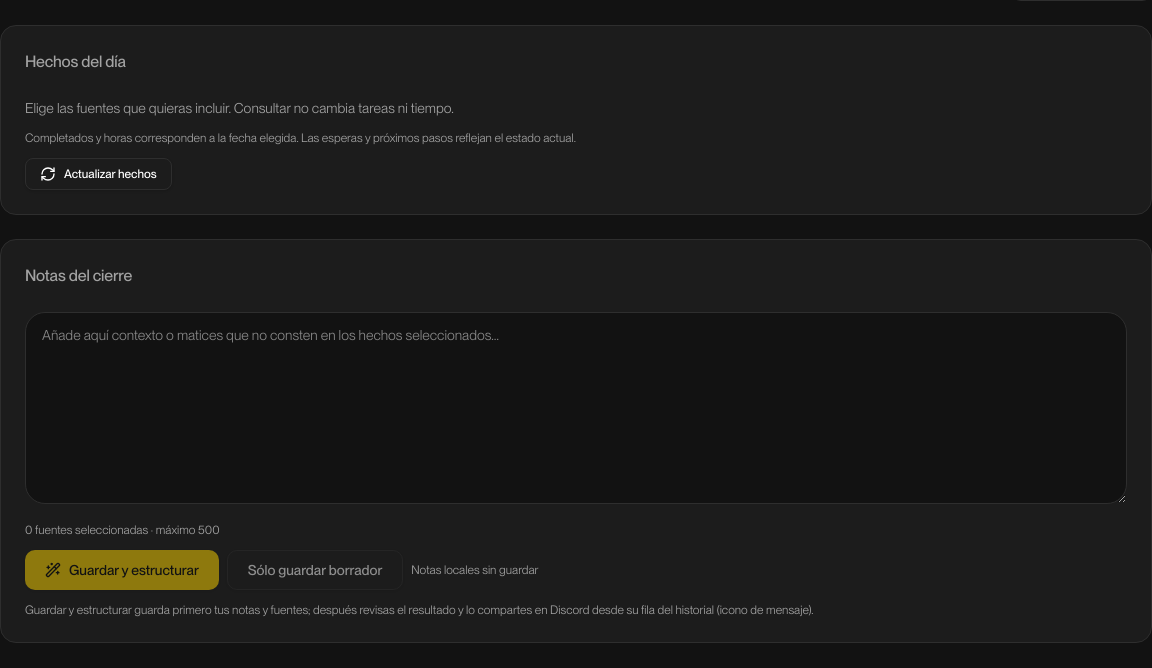
Scenario: offers AI on a new closing and saves the selected facts before structuring
The width and height of the screenshot is (1152, 668).
Replace the text in the text box named "Notas del daily" with "Nota humana": [576, 408] box [25,312,1127,504]
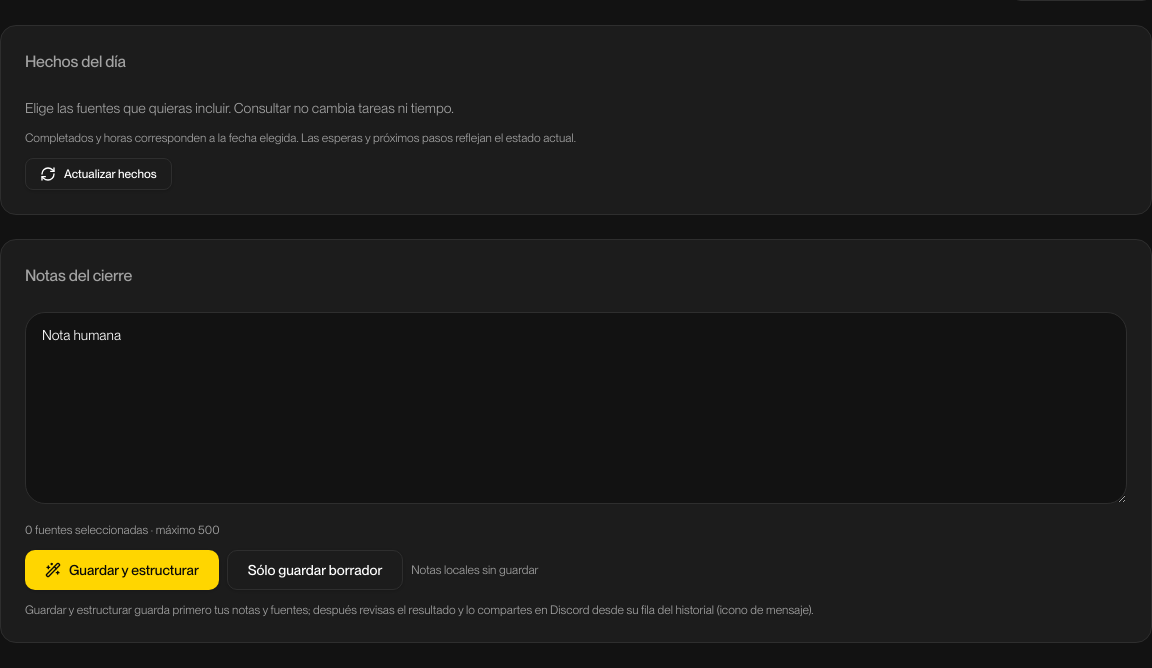
Click the button "Actualizar hechos": [98, 174] box [25,158,172,190]
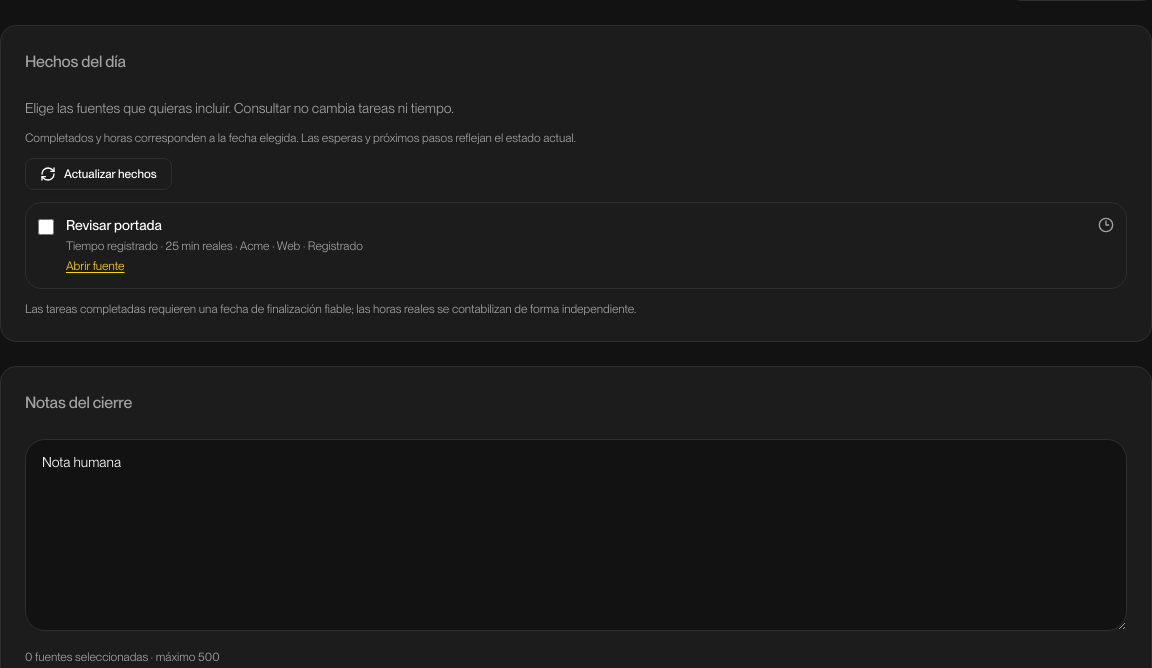
Click the checkbox labelled "Revisar portada": [46, 227] box [38,219,54,235]
(page scrolled)
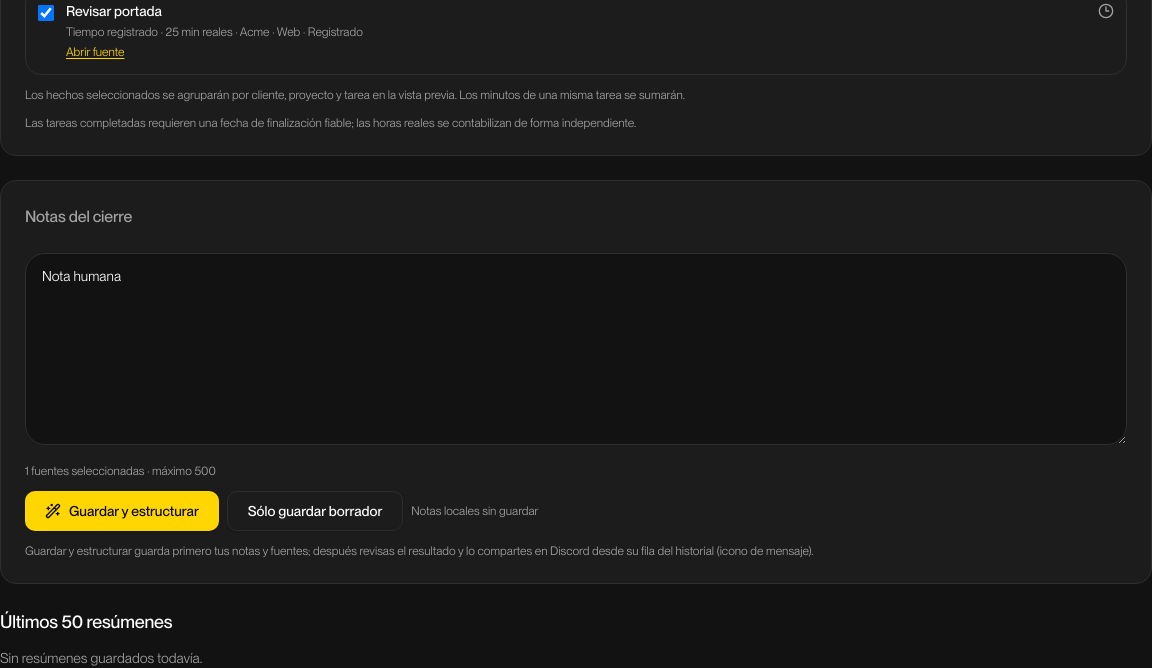
Click the button "Guardar y estructurar": [122, 511] box [25,491,219,531]
(page scrolled)
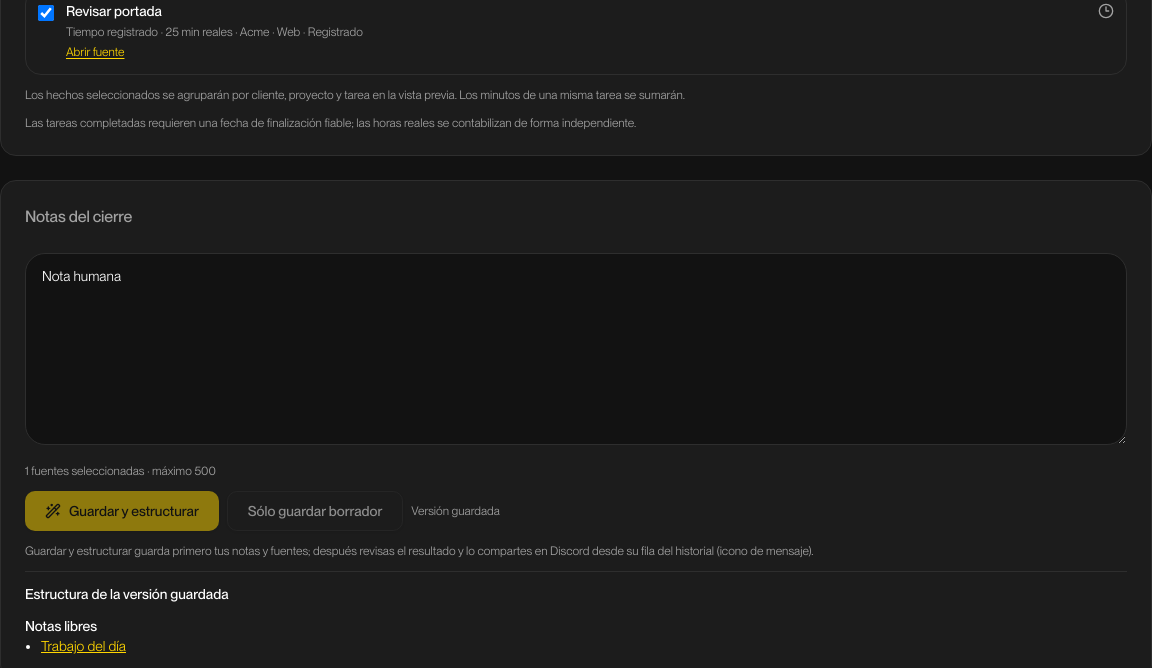
Now the link "Trabajo del día" is shown, box [41,638,126,654]
